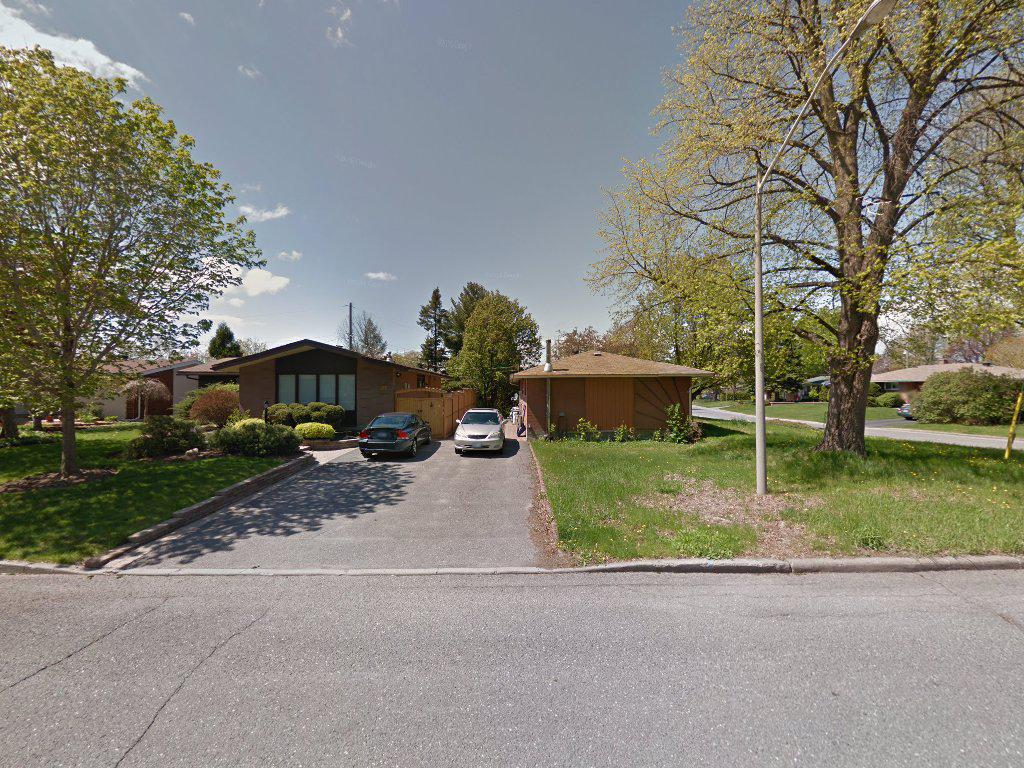trunk: (818, 264, 874, 486)
